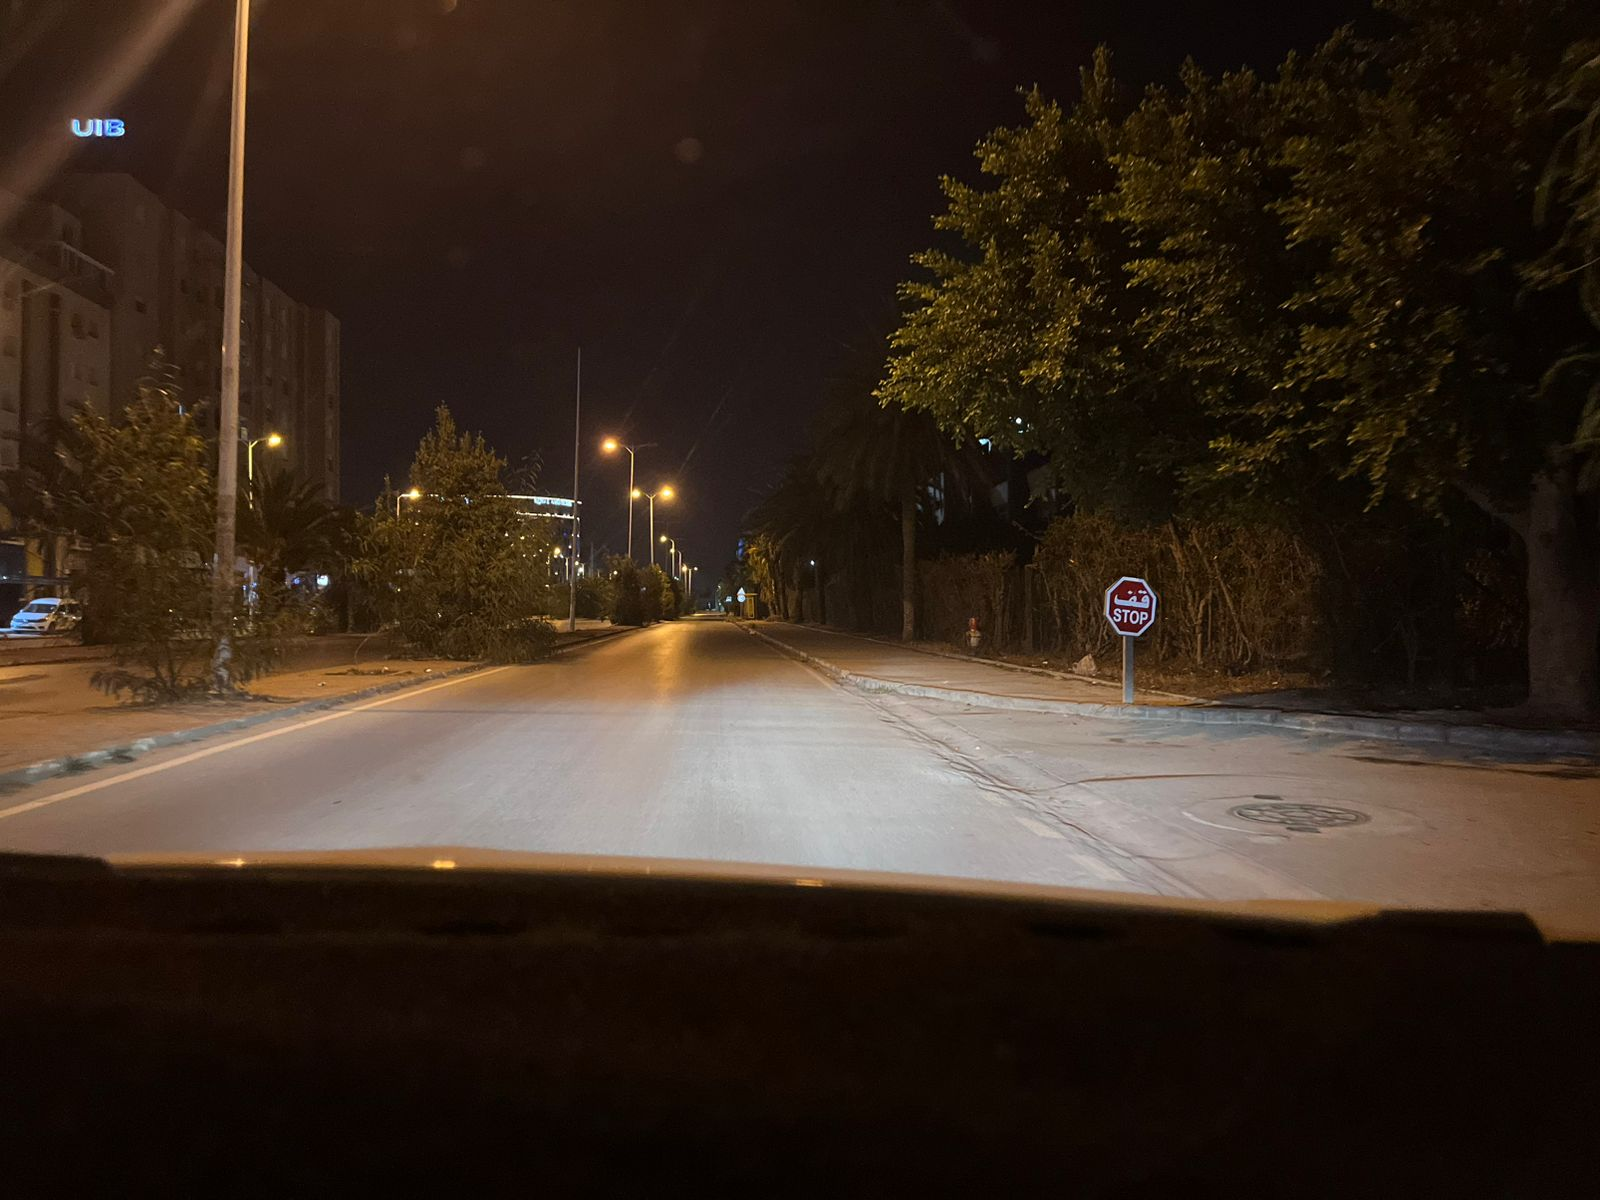Stop: (1102, 576, 1157, 637)
